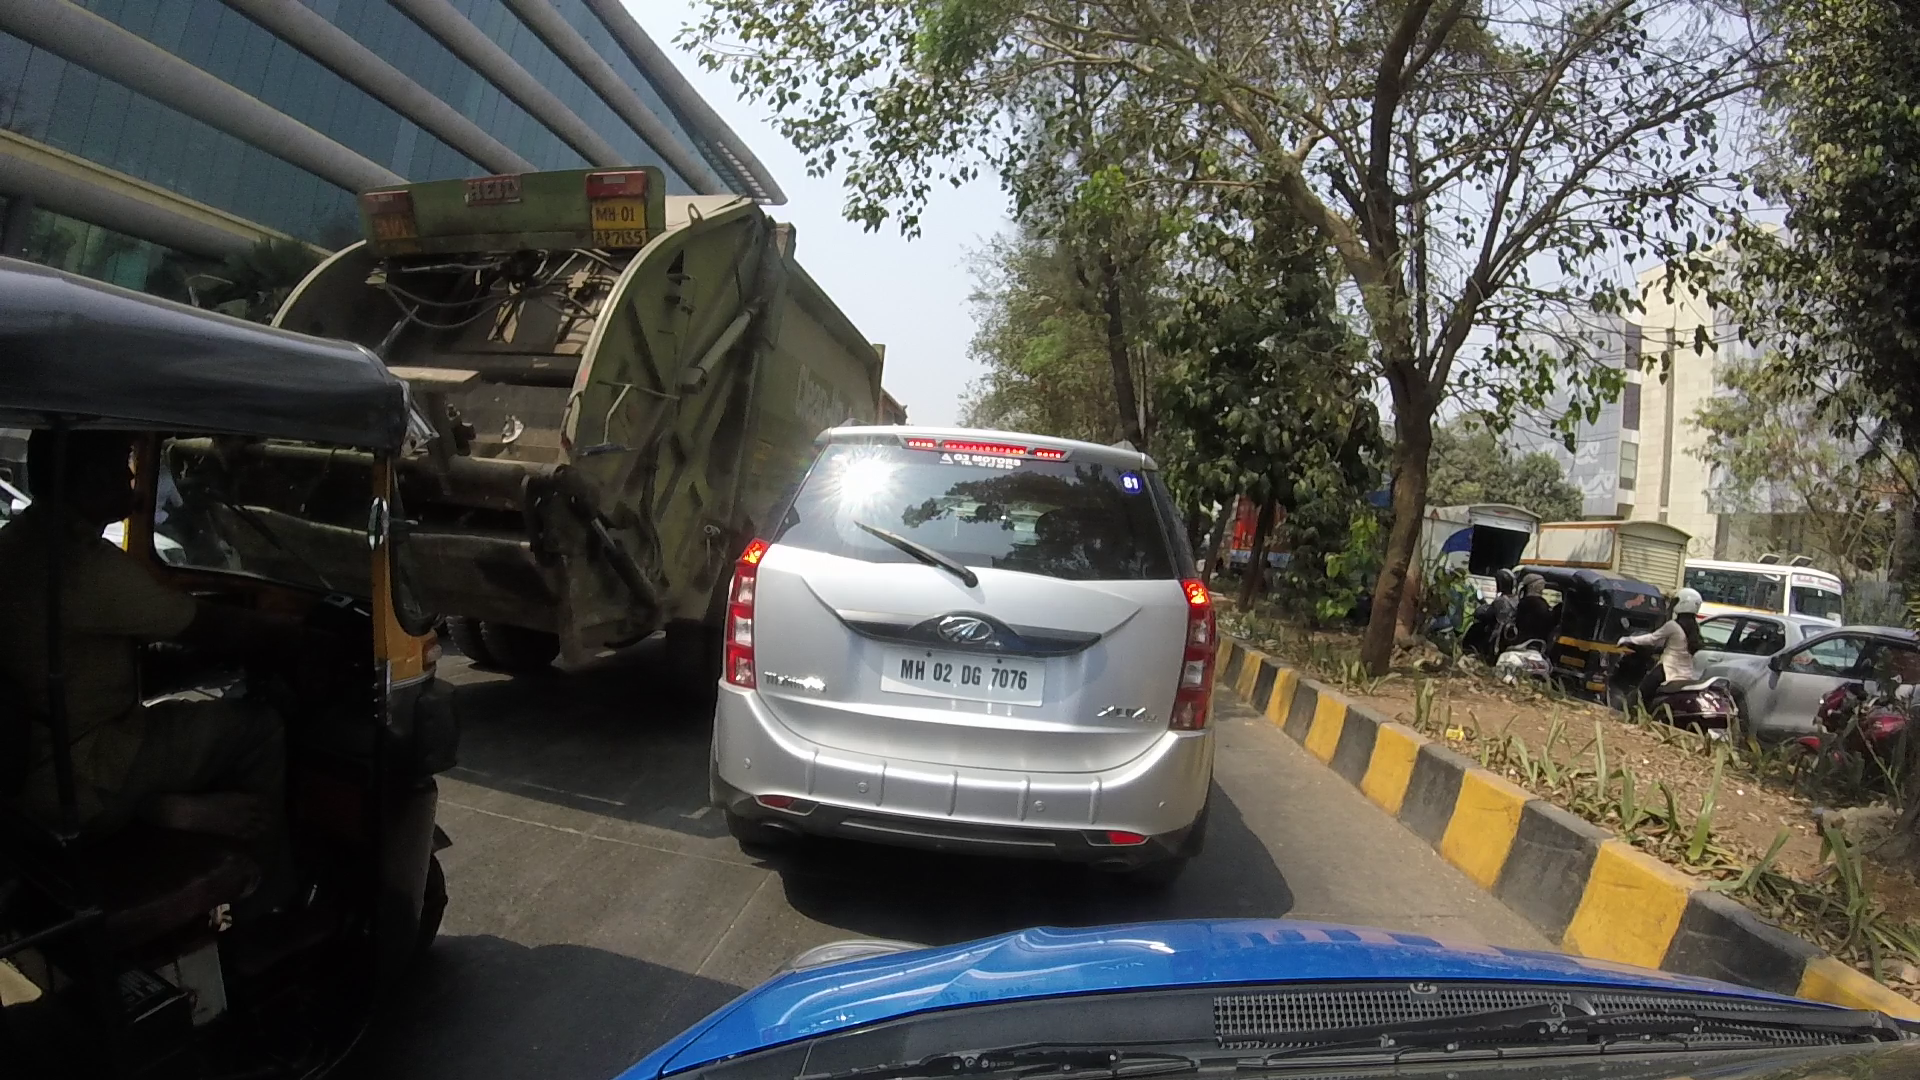bike/scooter: (1604, 592, 1742, 735), (1799, 669, 1920, 781), (1473, 570, 1553, 684)
bus: (1683, 549, 1859, 634)
car: (704, 386, 1254, 887), (1702, 622, 1915, 731)
rickshaw: (1, 245, 458, 1075), (1513, 556, 1665, 673)
truck: (301, 169, 910, 666), (1534, 500, 1688, 585), (1425, 493, 1540, 588)
